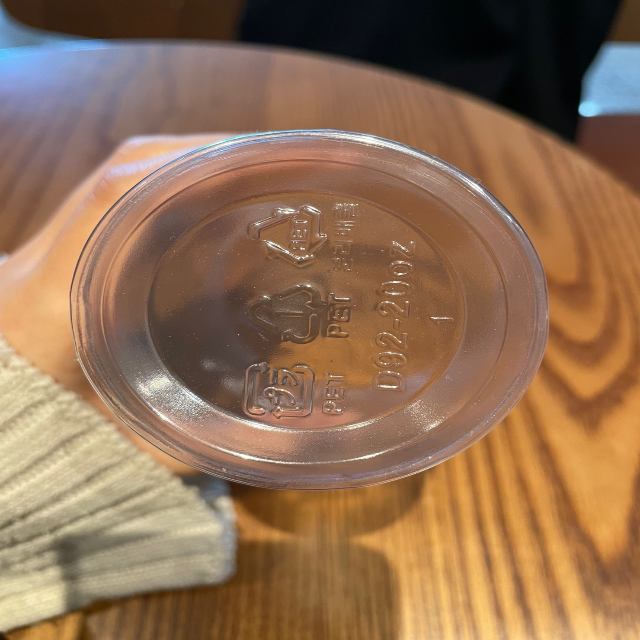pet: (242, 195, 357, 273), (246, 279, 356, 347), (239, 354, 347, 422)
